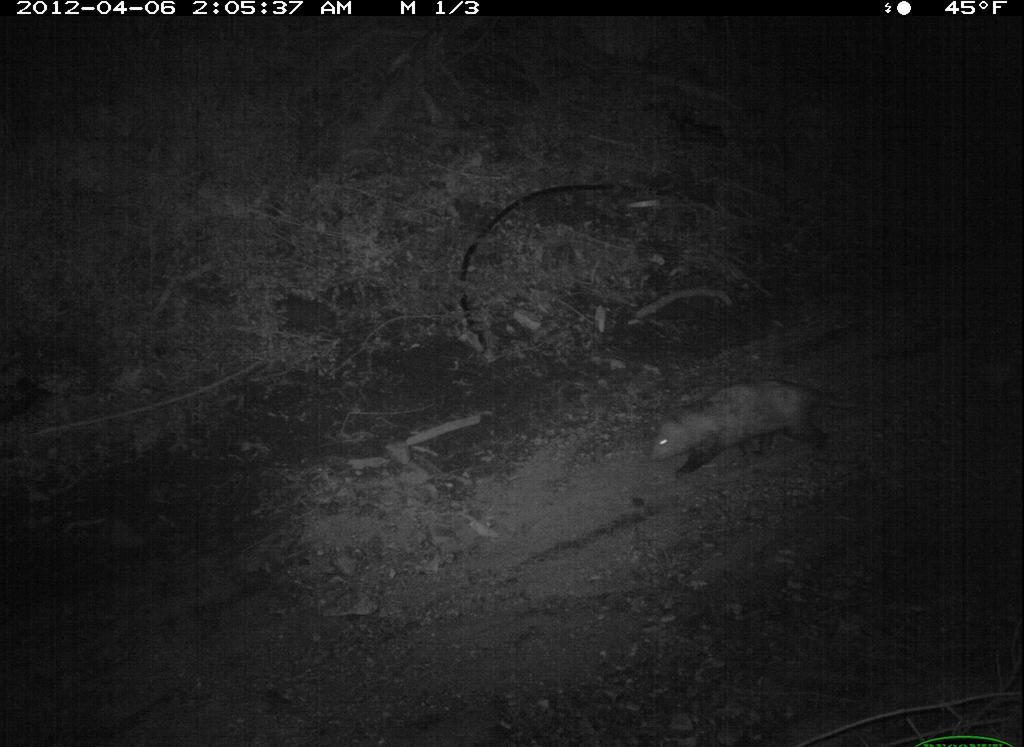opossum: (646, 368, 888, 488)
